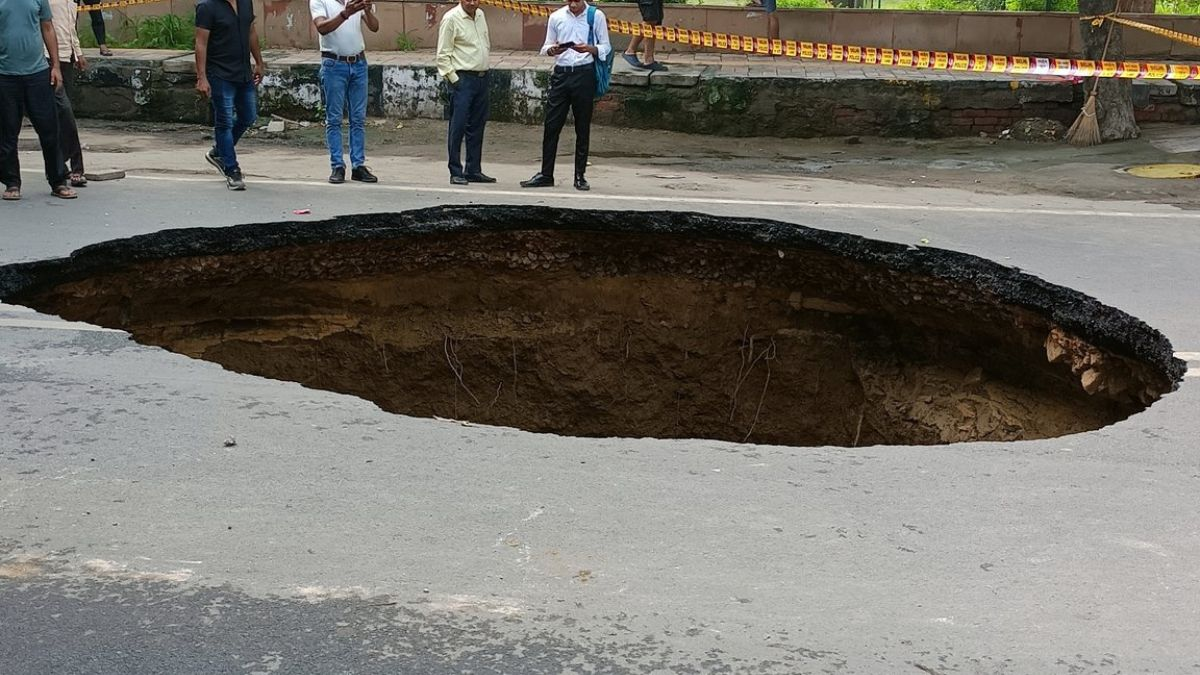Hole_in_the_road: (9, 191, 1200, 499)
Person: (1, 2, 105, 202), (191, 3, 272, 198), (310, 2, 391, 186), (540, 2, 616, 193), (426, 8, 498, 189)
